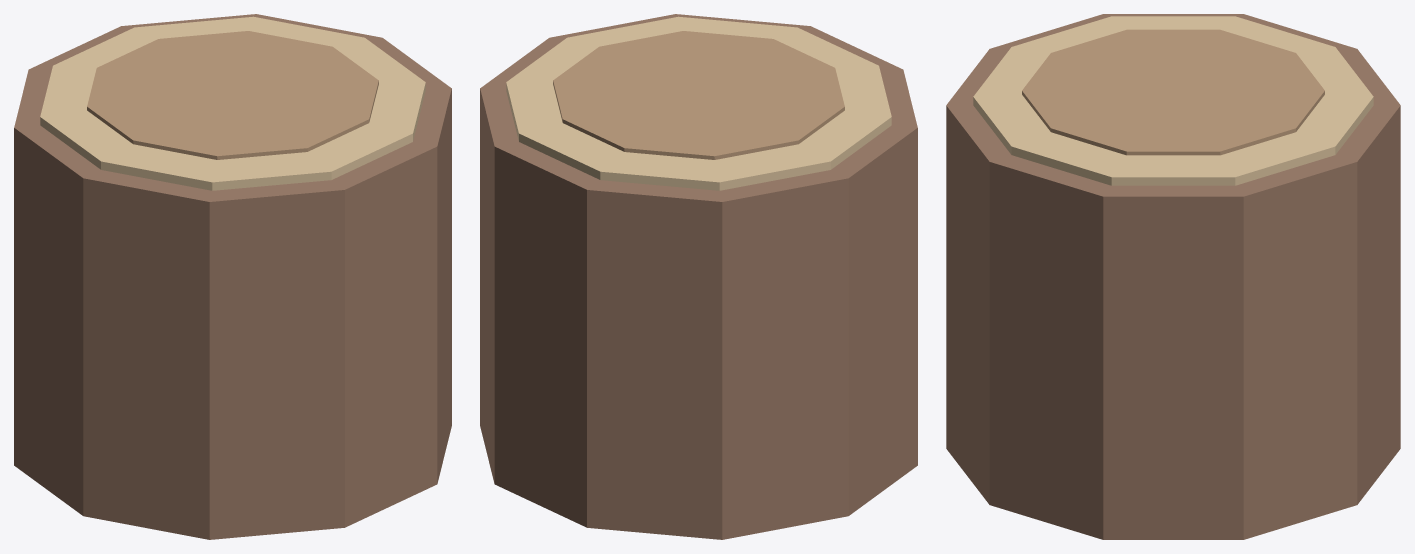
File: Stump_Fresh.glb
3 views of the same model, side by side, from view 1: azimuth 30°, elevation 25°; view 2: azimuth 150°, elevation 25°; view 3: azimuth 270°, elevation 25° (orthographic).
Parts seen in each view (by area): view 1: FTF_Nature_Stump_Fresh_StaticMesh; view 2: FTF_Nature_Stump_Fresh_StaticMesh; view 3: FTF_Nature_Stump_Fresh_StaticMesh.
Part boxes in pixels (<box>): FTF_Nature_Stump_Fresh_StaticMesh: <box>14,14,451,539</box>; FTF_Nature_Stump_Fresh_StaticMesh: <box>480,14,917,539</box>; FTF_Nature_Stump_Fresh_StaticMesh: <box>946,14,1400,539</box>.
Bounding box in the file's own units: 0.7989 × 0.73 × 0.84.
